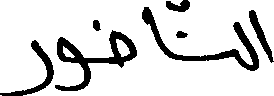ا: (140, 0, 169, 58), (248, 8, 273, 72)
خ: (90, 18, 137, 68)
ر: (0, 37, 53, 94)
ل: (233, 22, 251, 71)
ن: (175, 30, 237, 59)
و: (55, 34, 89, 91)
